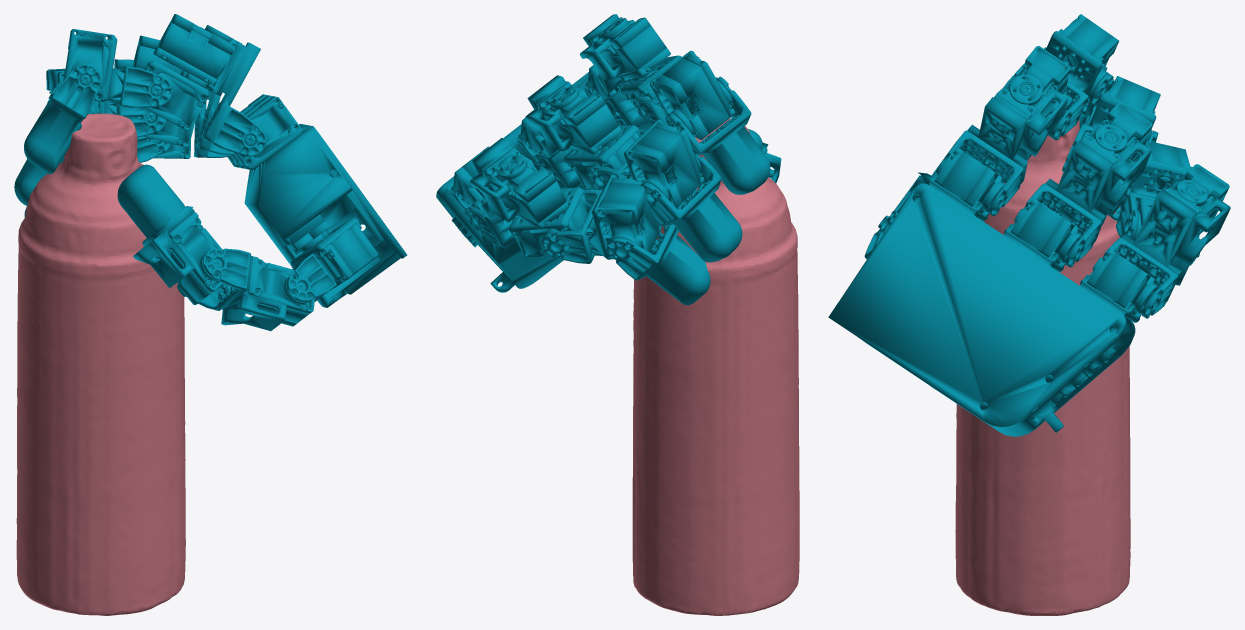
3 views of the same model, side by side, from view 1: azimuth 30°, elevation 25°; view 2: azimuth 150°, elevation 25°; view 3: azimuth 270°, elevation 25° (orthographic). The views are drawn at different scales.
Parts seen in each view (by area): view 1: world; view 2: world; view 3: world.
Part boxes in pixels (left/top/right/bottom): world: left=14, top=14, right=407, bottom=615; world: left=436, top=14, right=799, bottom=615; world: left=828, top=14, right=1230, bottom=615.
Size of the model in its own units: 0.2002 by 0.3067 by 0.1942.
